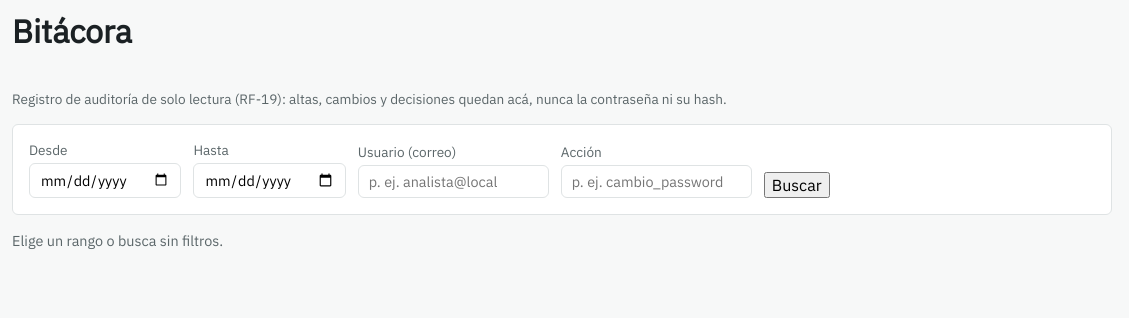
Test case: Bitacora › busca y muestra las entradas al enviar el formulario
Click the button "Buscar": click(797, 185) [764,172,830,198]
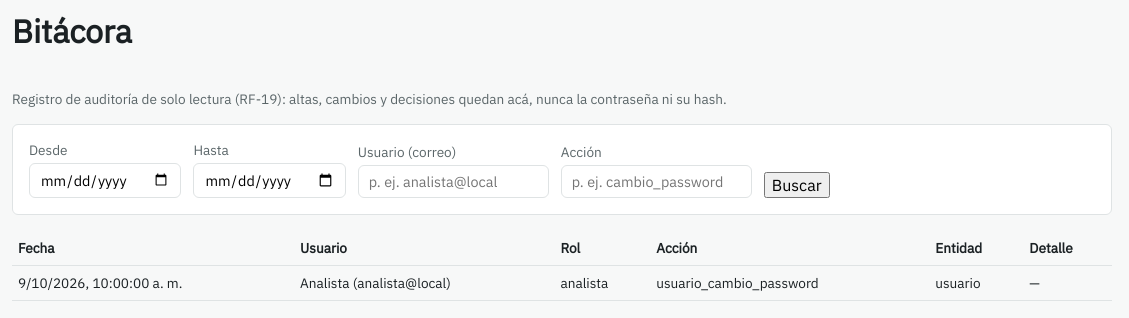
Result: the text "usuario_cambio_password" is shown at [650,265,929,300]
Result: the text "Analista (analista@local)" is shown at [294,265,554,300]
